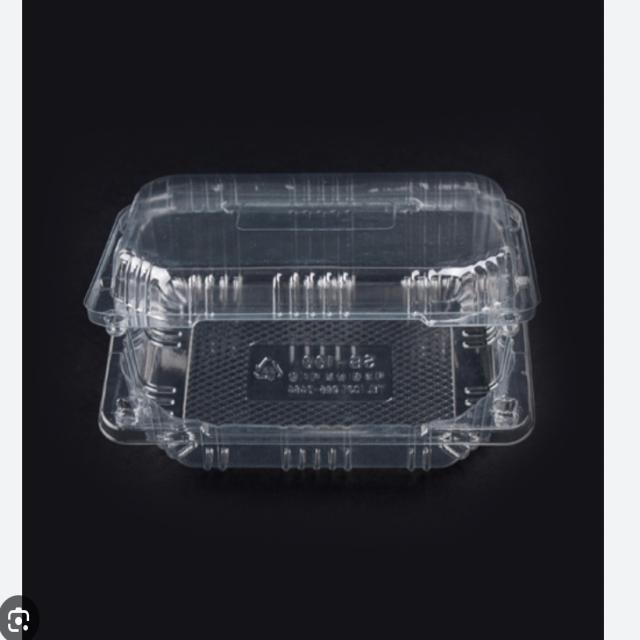recyclable: (81, 154, 564, 508)
